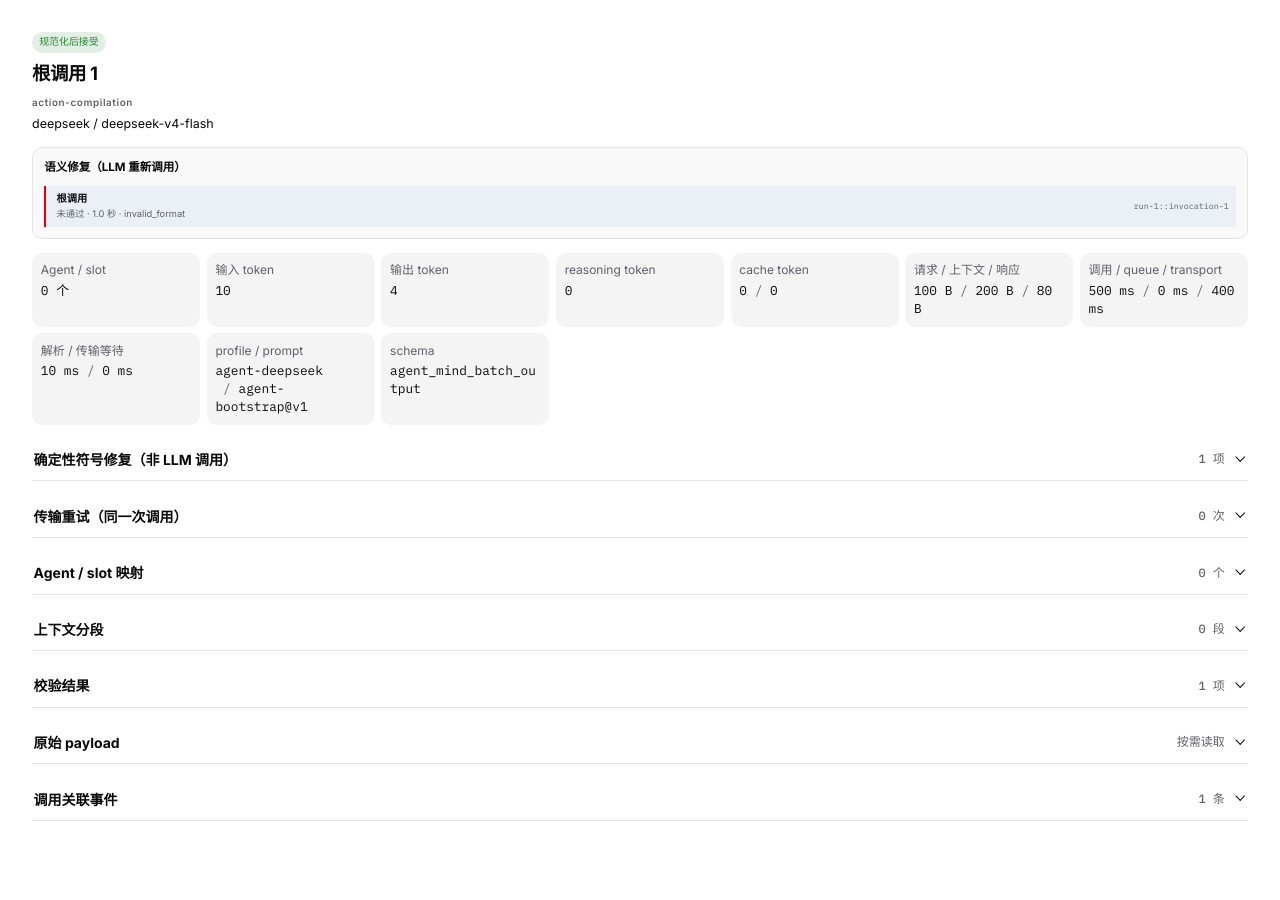
Test: WorldInspectorDetail › shows field-level symbol repair evidence
The image size is (1280, 900).
What coordinates should you click on to do the following:
click the text "确定性符号修复（非 LLM 调用）"
I would click on:
 (135, 460)
Its box is top-left (34, 451), bottom-right (237, 468).
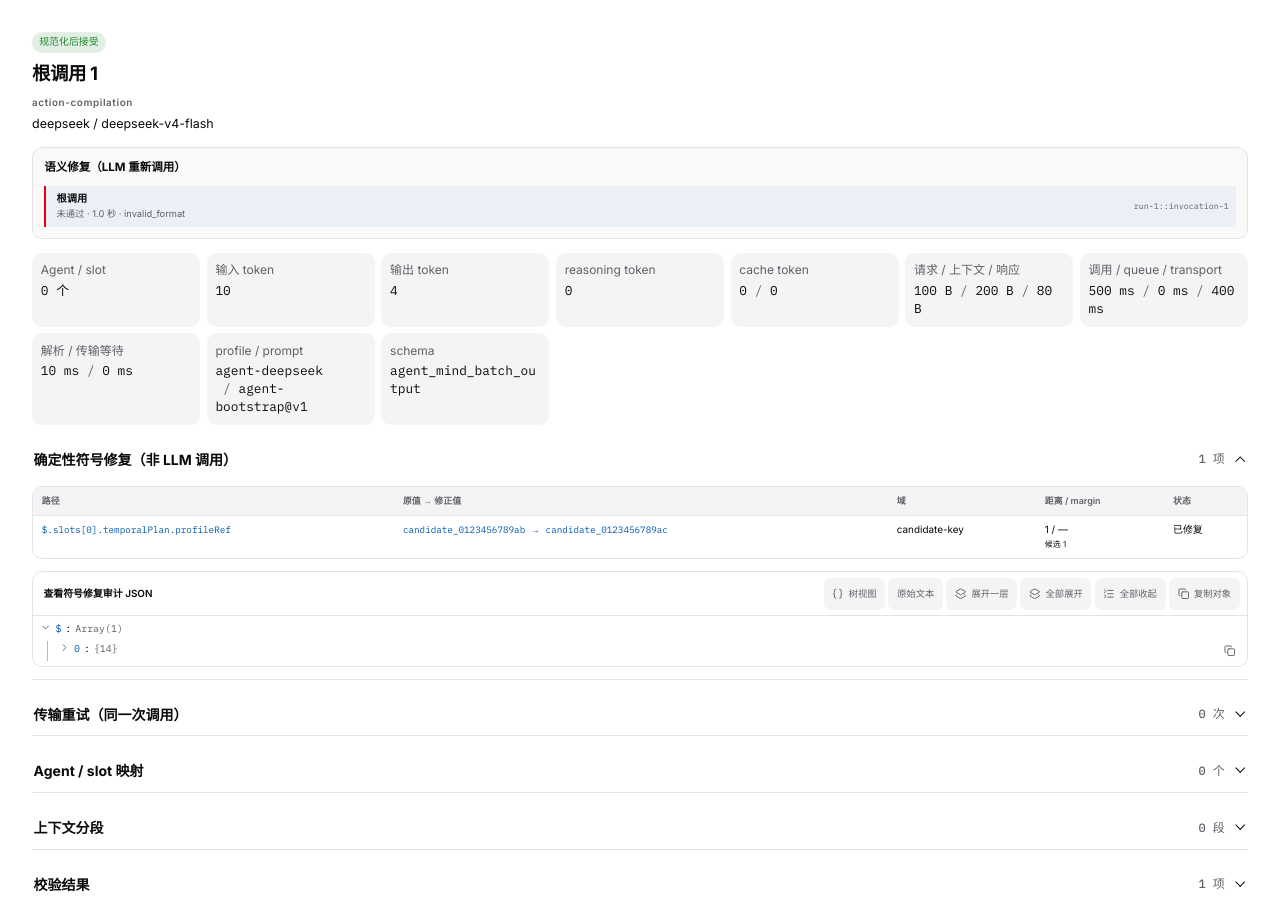
Check: the text "candidate_0123456789ab → candidate_0123456789ac" is shown, box top-left (403, 523), bottom-right (668, 536)
Check: the text "已修复" is shown, box top-left (1164, 515), bottom-right (1247, 558)
